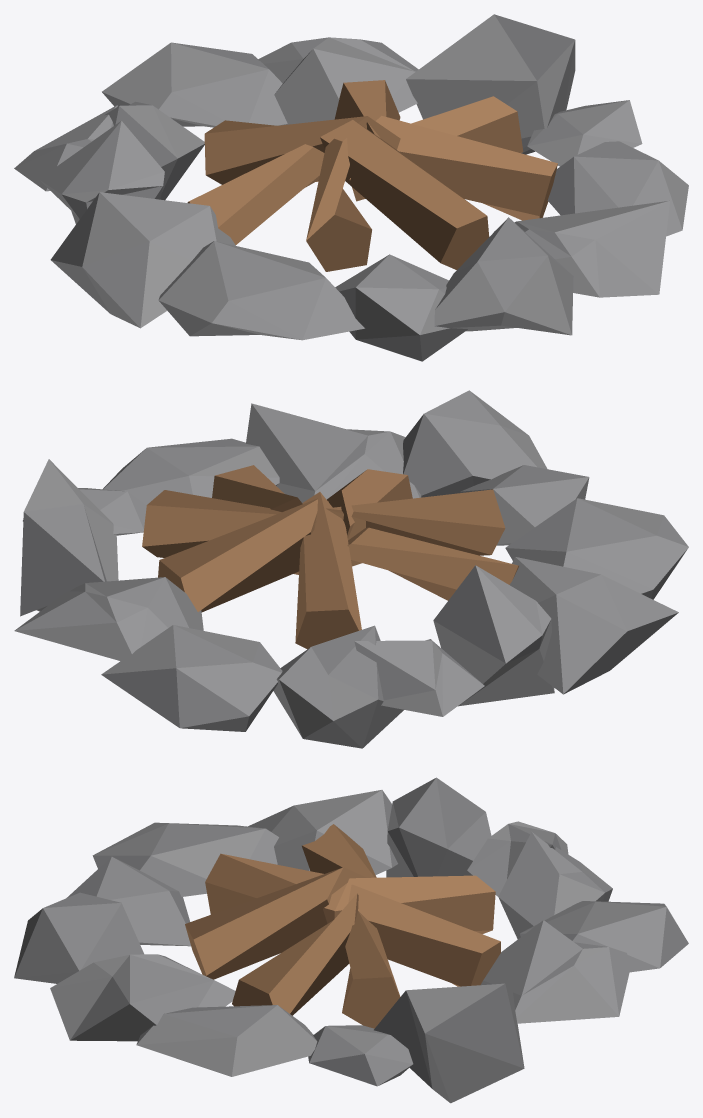
File: Fireplace_base.glb
3 views of the same model, one above another, from view 1: azimuth 30°, elevation 25°; view 2: azimuth 150°, elevation 25°; view 3: azimuth 270°, elevation 25° (orthographic). The views are drawn at different scales.
Parts seen in each view (by area): view 1: base; view 2: base; view 3: base.
Boxes of the visible parts, x1,y1,x2,y2 form: base: (14, 14, 688, 361); base: (14, 390, 688, 748); base: (14, 777, 688, 1103).
Size of what is drawn, in the model's own units: 1.58 by 0.4233 by 1.72.
1 material, 1 textured.
